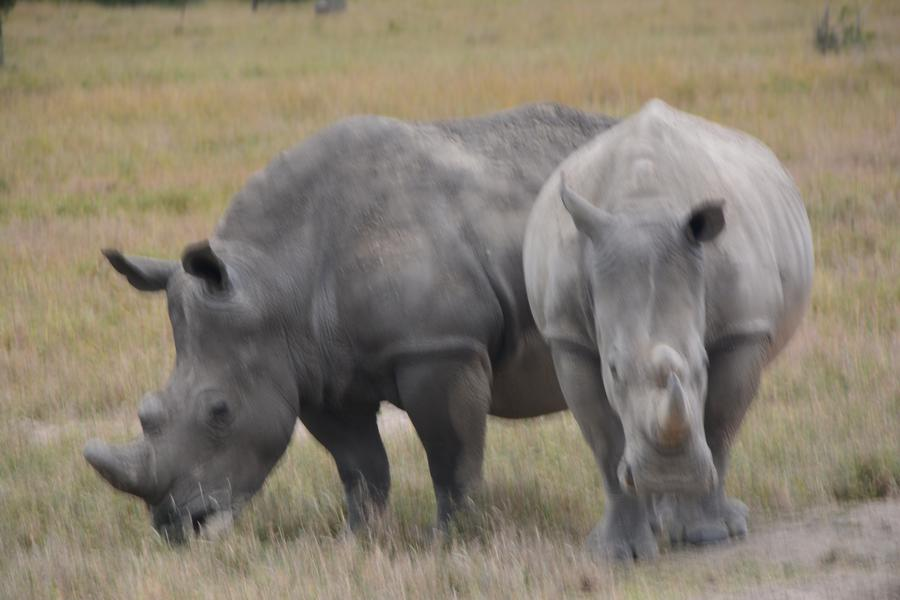rhino: (129, 105, 530, 528), (540, 100, 808, 538)
